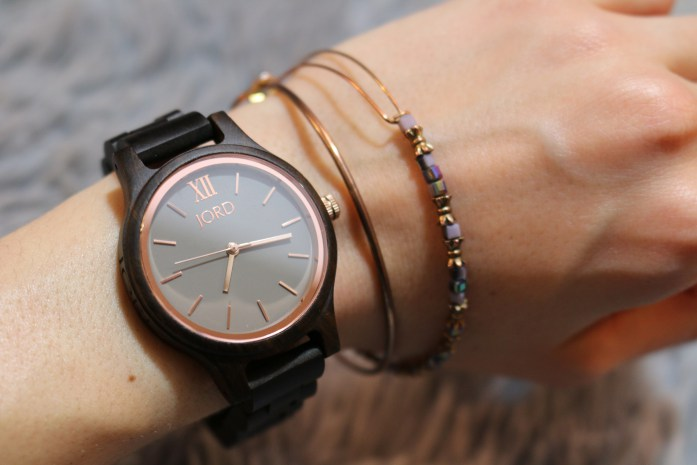clock: (141, 156, 329, 347)
